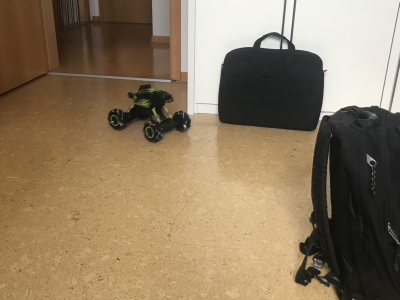remote control car: (107, 81, 192, 143)
